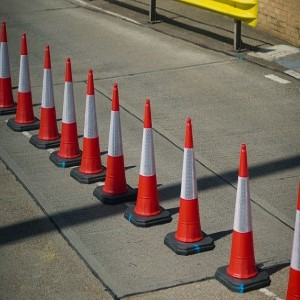traffic cone: (215, 143, 271, 293), (164, 117, 215, 256), (124, 99, 172, 228), (92, 83, 136, 206), (70, 69, 112, 185), (49, 58, 90, 169), (29, 45, 66, 150), (7, 32, 43, 133), (1, 19, 19, 115), (286, 180, 300, 299)
